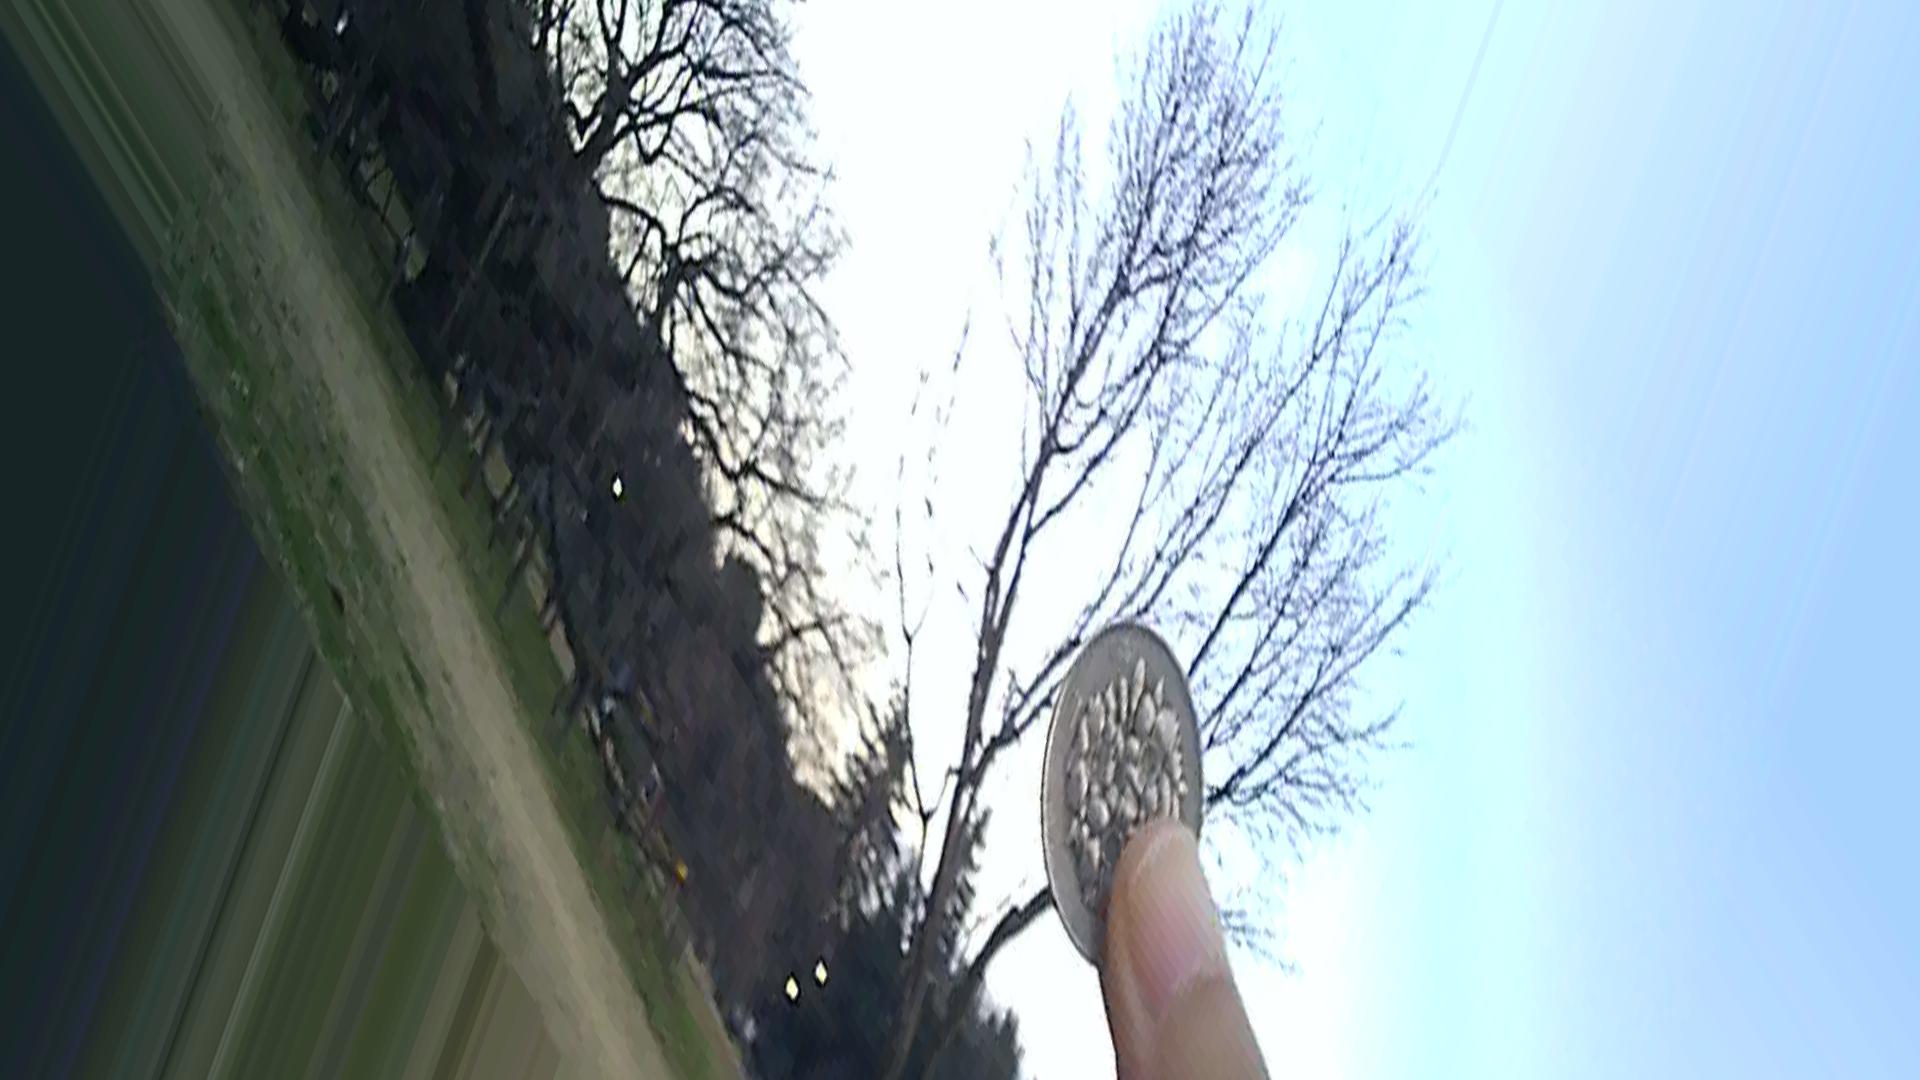100 Yen: (1044, 608, 1228, 986)
